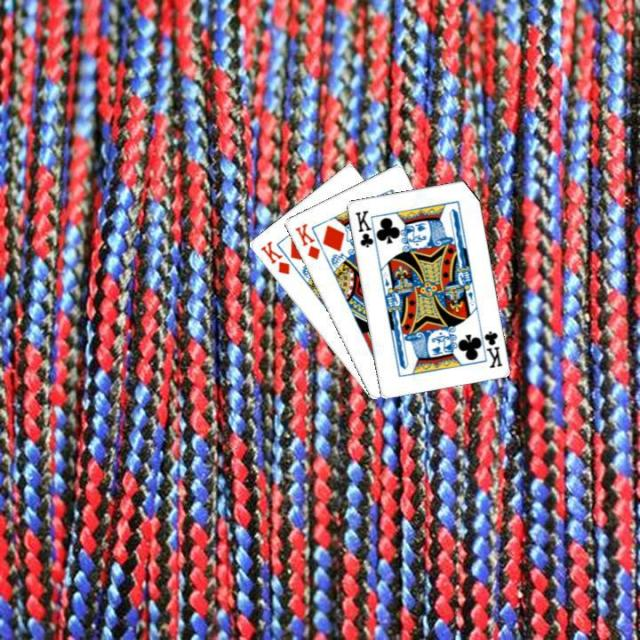KC: (351, 206, 380, 252), (476, 324, 504, 369)
KD: (256, 238, 292, 276), (290, 220, 322, 262)
